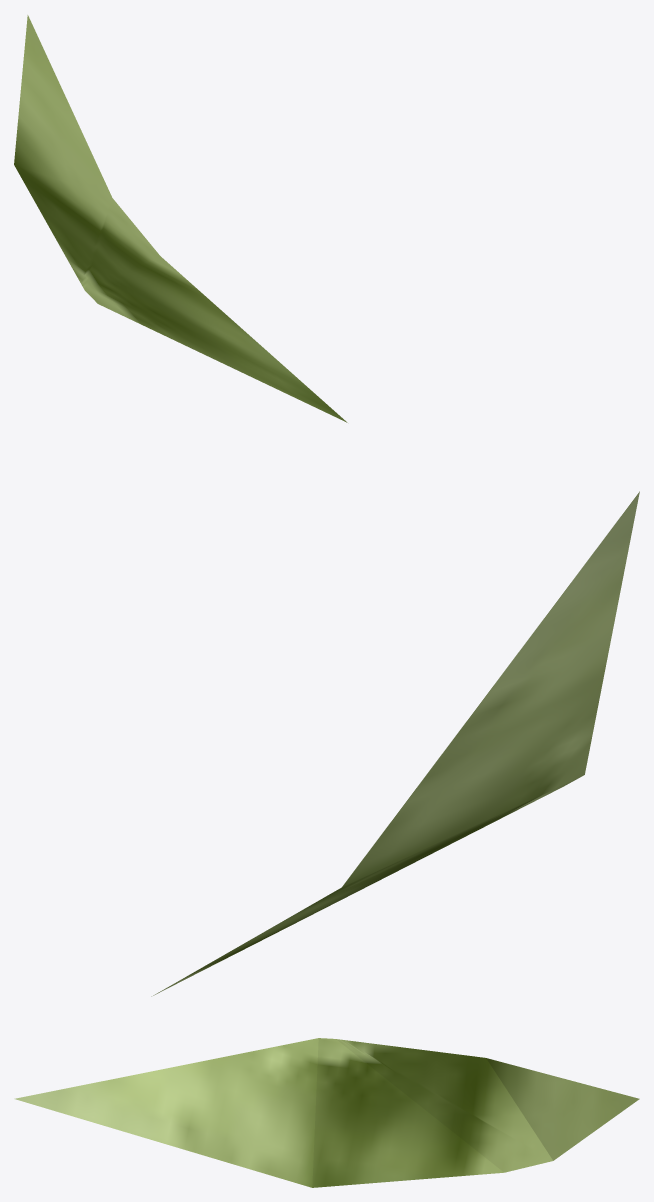
3 views of the same model, one above another, from view 1: azimuth 30°, elevation 25°; view 2: azimuth 150°, elevation 25°; view 3: azimuth 270°, elevation 25° (orthographic). The views are drawn at different scales.
Bounding box in the file's own units: 0.1662 × 0.1134 × 0.7222.
Materials: 1 (1 with a texture image).
